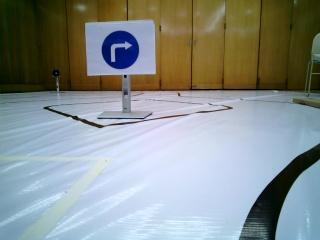right: (94, 26, 147, 79)
